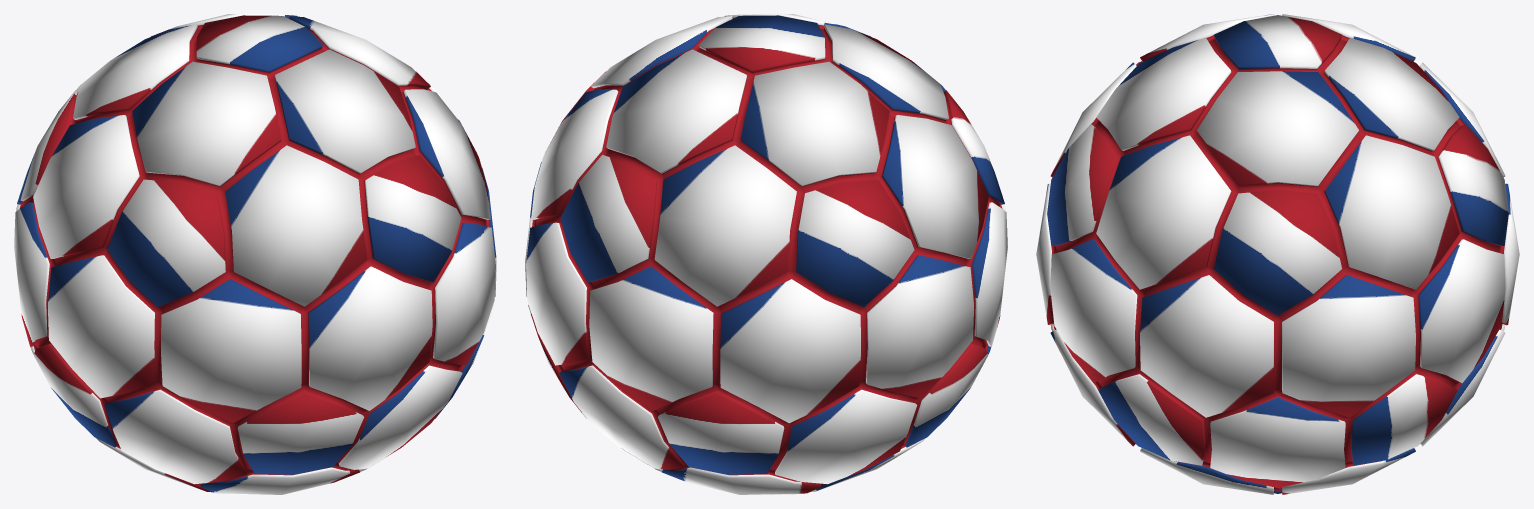
File: pelotaHOLANDA.glb
The picture shows the model from 3 angles, left to right: view 1: azimuth 30°, elevation 25°; view 2: azimuth 150°, elevation 25°; view 3: azimuth 270°, elevation 25°; orthographic projection.
Parts seen in each view (by area): view 1: Material_001-material; view 2: Material_001-material; view 3: Material_001-material.
Boxes of the visible parts, <box> form: Material_001-material: <box>14,14,496,494</box>; Material_001-material: <box>525,14,1007,494</box>; Material_001-material: <box>1036,14,1519,494</box>.
Size of the model in its own units: 0.011 by 0.0112 by 0.0111.
1 material, 1 textured.
